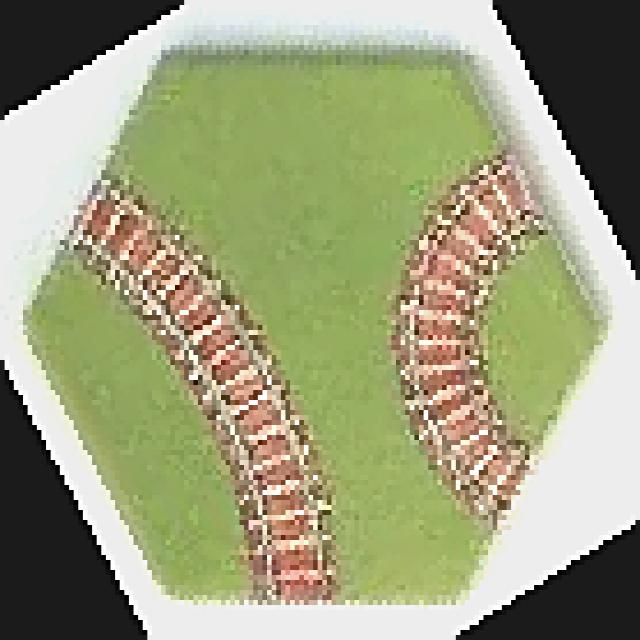5_2: (27, 46, 601, 603)
